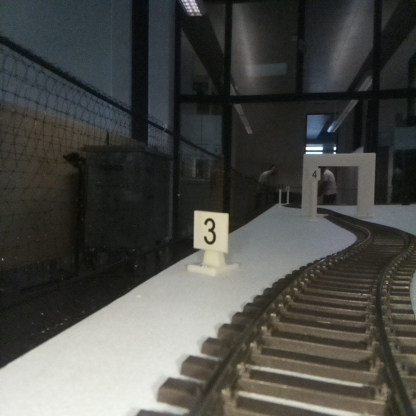white-stop-3: (194, 213, 228, 272)
